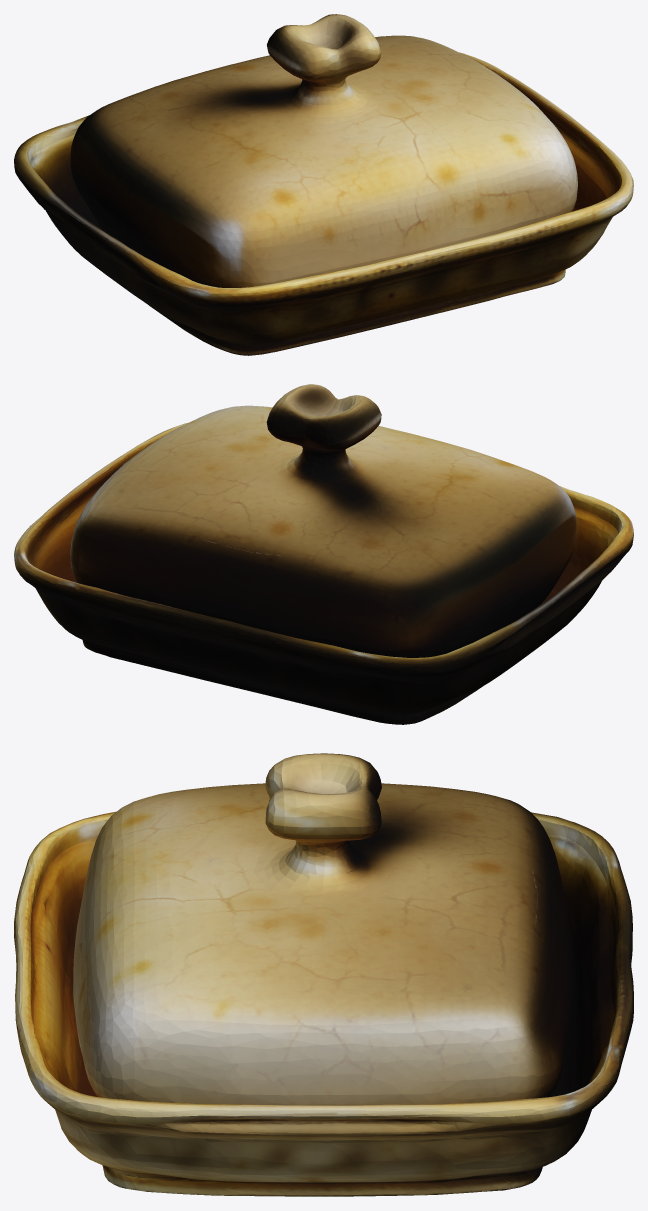
File: ceramic-butter-dish-used-rustic-worn.jpeg.glb
3 views of the same model, one above another, from view 1: azimuth 30°, elevation 25°; view 2: azimuth 150°, elevation 25°; view 3: azimuth 270°, elevation 25° (orthographic). The views are drawn at different scales.
Visible parts, largest first — view 1: world; view 2: world; view 3: world.
Boxes of the visible parts, x1=… form: world: x1=14, y1=14, x2=633, y2=355; world: x1=14, y1=384, x2=633, y2=724; world: x1=14, y1=753, x2=633, y2=1196.
Size of the model in its own units: 0.9887 by 0.457 by 0.8384.
1 material, 1 textured.
